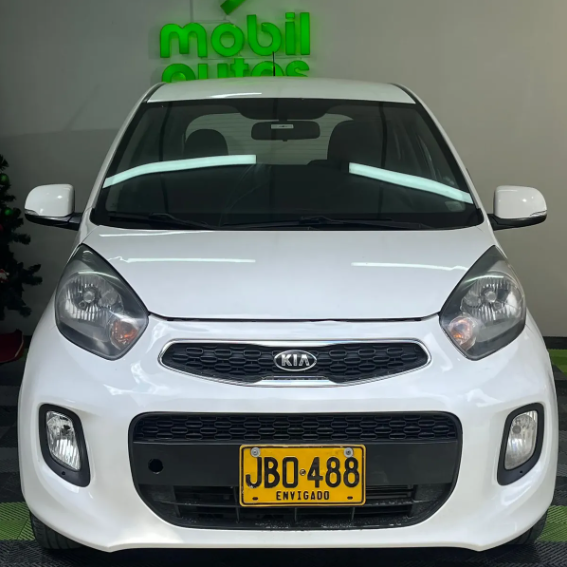placa: (240, 444, 366, 506)
